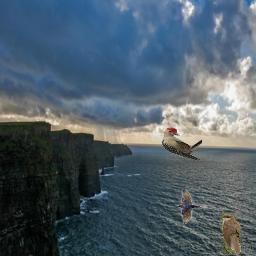Cuckoo: (220, 214, 241, 254)
Swallow: (177, 189, 208, 224)
Woodpecker: (162, 127, 202, 162)
